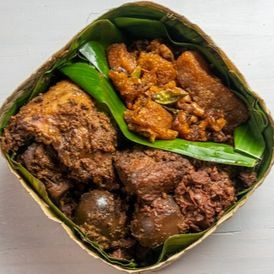gudeg: (11, 25, 261, 259)
